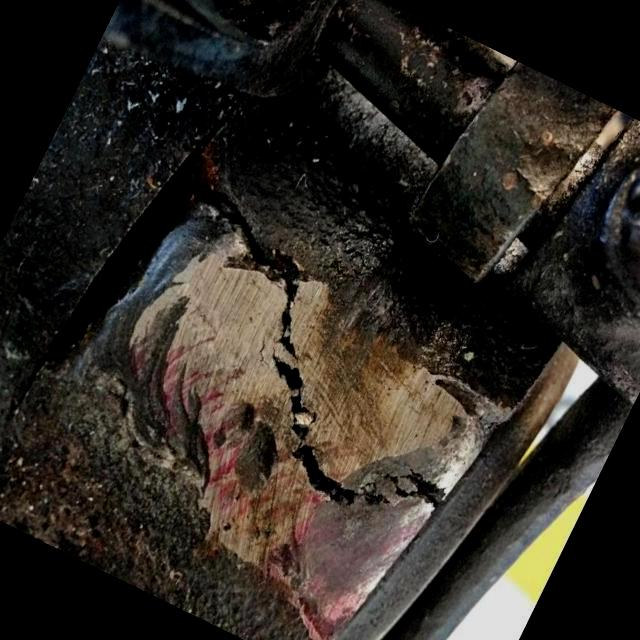defect: (176, 171, 453, 529)
